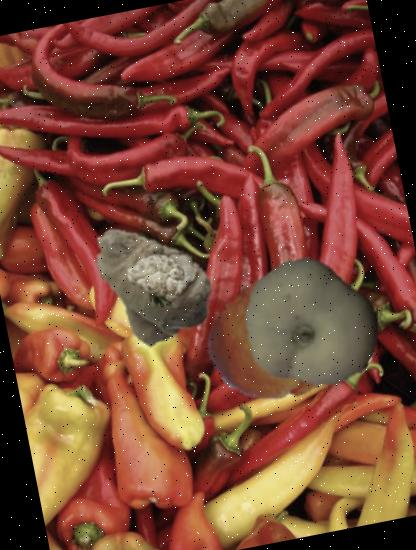Cauliflower: (122, 242, 194, 315)
Ginger: (67, 208, 224, 364)
Mandarine: (198, 254, 366, 422)
Peach: (230, 246, 392, 408)
